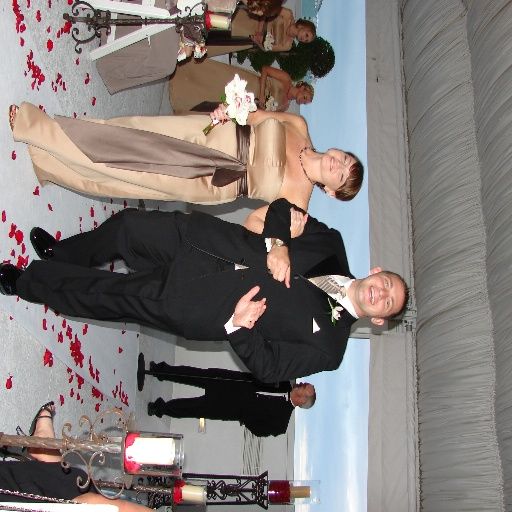hand: (228, 289, 268, 347), (265, 241, 290, 292), (289, 204, 308, 240), (208, 103, 232, 123), (258, 92, 266, 108), (256, 32, 264, 43), (250, 33, 257, 44)
